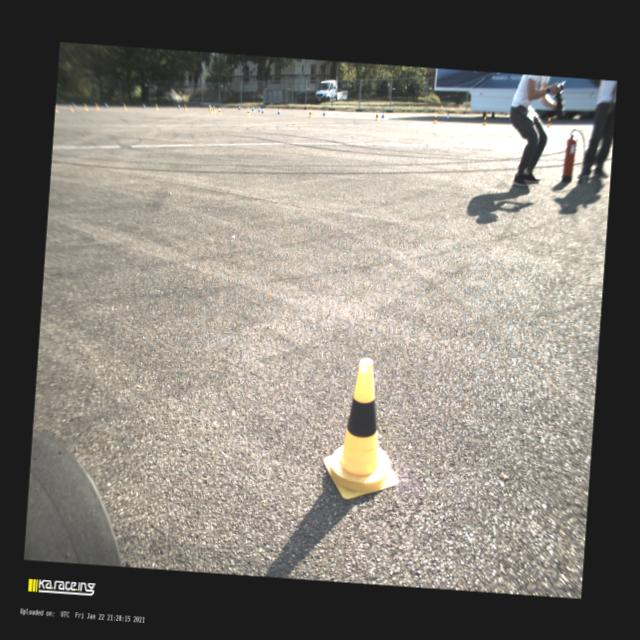blue_cone: (380, 110, 384, 118), (446, 112, 450, 120), (276, 108, 280, 114), (260, 107, 264, 113), (322, 108, 325, 115), (251, 106, 254, 111), (177, 104, 180, 109), (258, 105, 260, 112), (238, 105, 240, 110)
yellow_cone: (320, 355, 407, 502), (481, 116, 487, 126), (432, 114, 438, 123), (546, 117, 551, 127), (374, 112, 379, 120), (246, 108, 250, 116), (308, 110, 312, 117), (218, 108, 222, 115), (210, 108, 213, 114), (155, 104, 158, 110), (212, 106, 215, 112), (184, 105, 187, 110), (208, 105, 210, 110)
